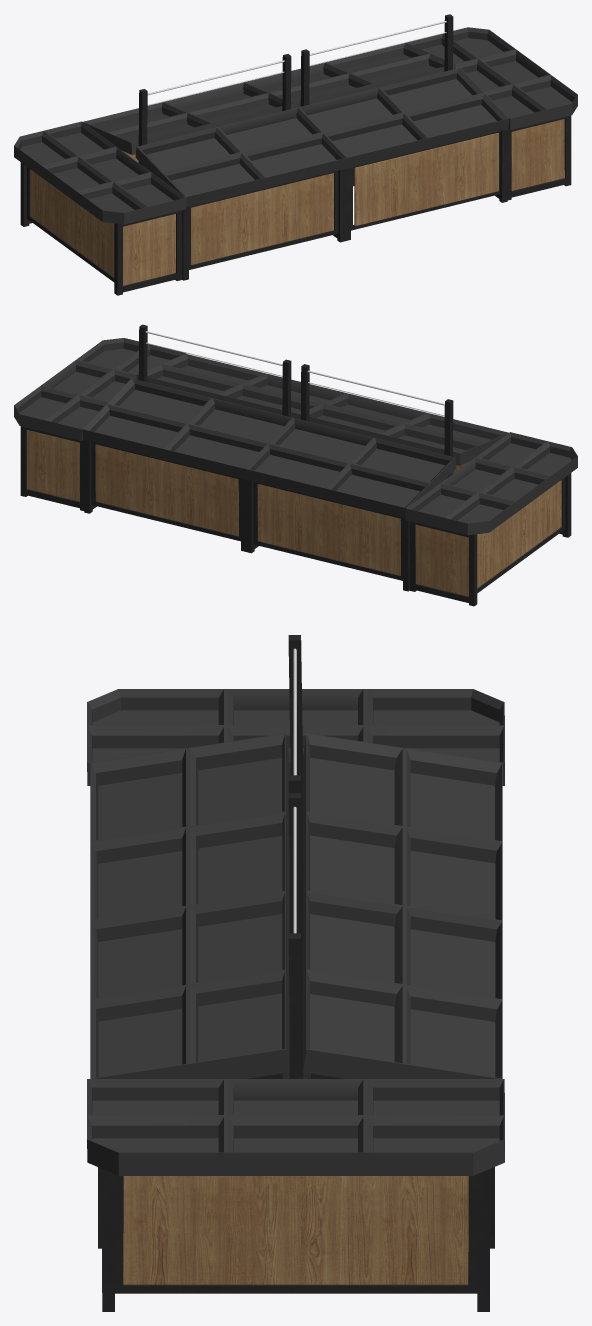
File: SM_配餐区_柜子_01.fbx
The picture shows the model from 3 angles, top to bottom: view 1: azimuth 30°, elevation 25°; view 2: azimuth 150°, elevation 25°; view 3: azimuth 270°, elevation 25°; orthographic projection. The views are drawn at different scales.
Visible parts, largest first — view 1: SM_配餐区_柜子_01; view 2: SM_配餐区_柜子_01; view 3: SM_配餐区_柜子_01.
Boxes of the visible parts, bbox=[...] form: SM_配餐区_柜子_01: bbox=[14, 14, 577, 295]; SM_配餐区_柜子_01: bbox=[14, 324, 577, 606]; SM_配餐区_柜子_01: bbox=[87, 635, 504, 1311].
Size of the model in its own units: 4400 by 1343 by 1676.
